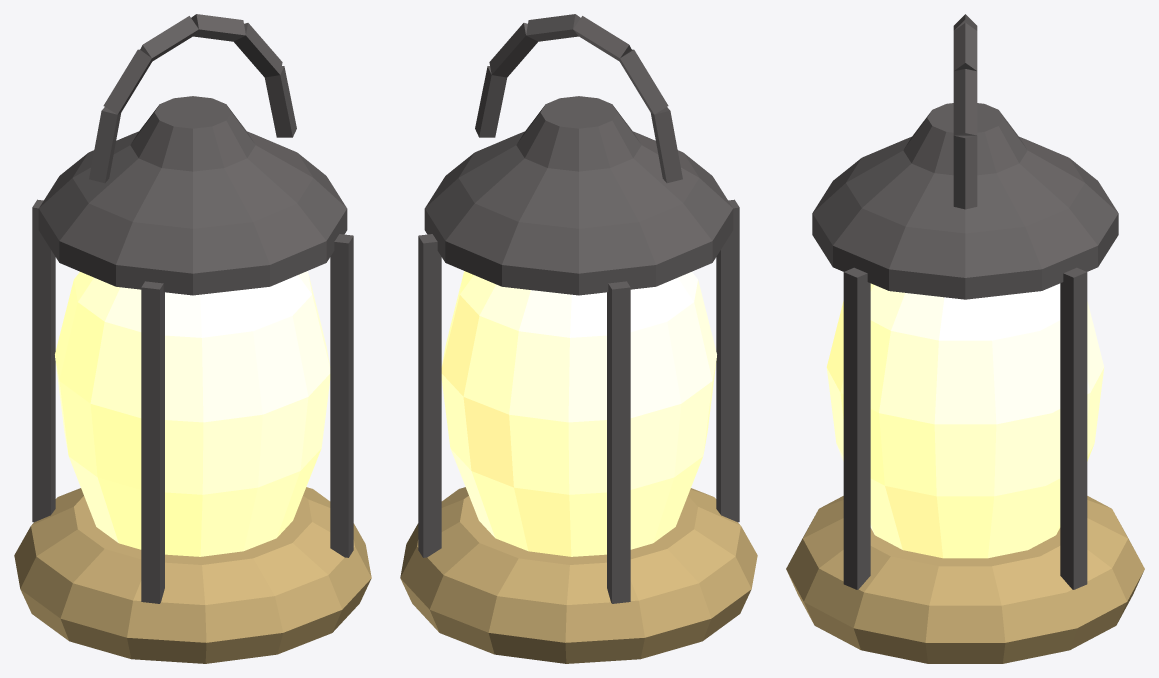
Rendered from lamp-oil.glb.
3 renders of one model, left to right at view 1: azimuth 30°, elevation 25°; view 2: azimuth 150°, elevation 25°; view 3: azimuth 270°, elevation 25°, orthographic.
Parts seen in each view (by area): view 1: lamp-oil; view 2: lamp-oil; view 3: lamp-oil.
Boxes of the visible parts, x1,y1,x2,y2 form: lamp-oil: (14,14,371,663); lamp-oil: (400,14,757,663); lamp-oil: (786,14,1144,663).
Bounding box in the file's own units: 0.1462 × 0.2647 × 0.15.
